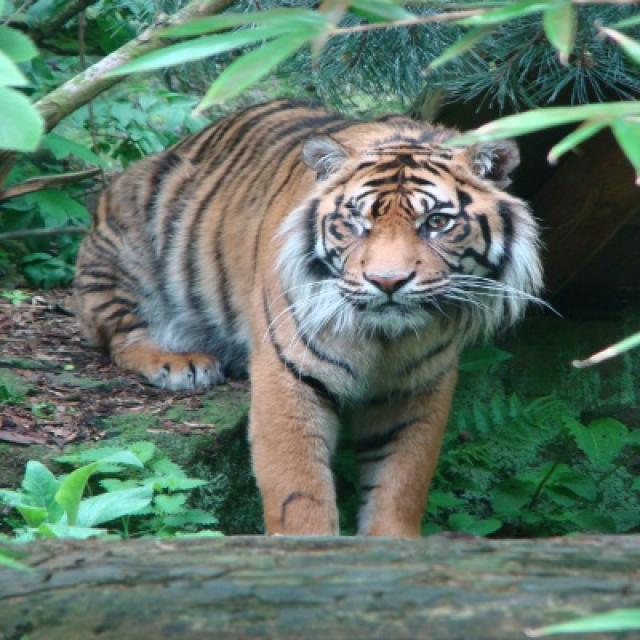Tiger: (77, 91, 544, 530)
